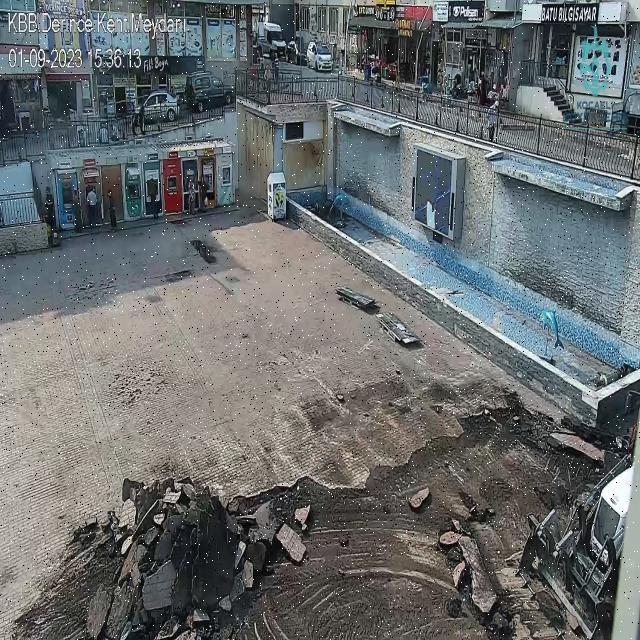Car: (186, 68, 234, 117), (134, 84, 182, 128), (305, 40, 338, 72), (285, 33, 312, 64)
Van: (252, 21, 285, 53)
